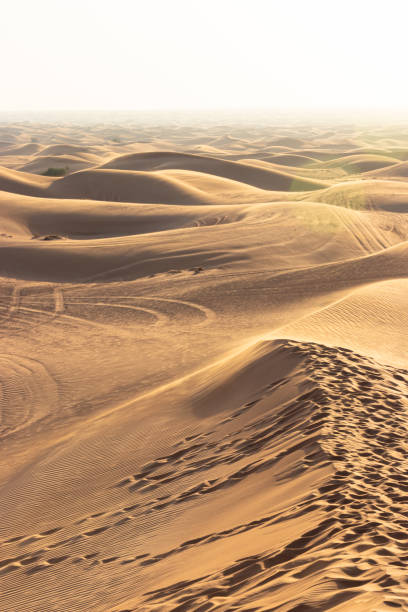human_foot_print: (288, 339, 407, 595)
